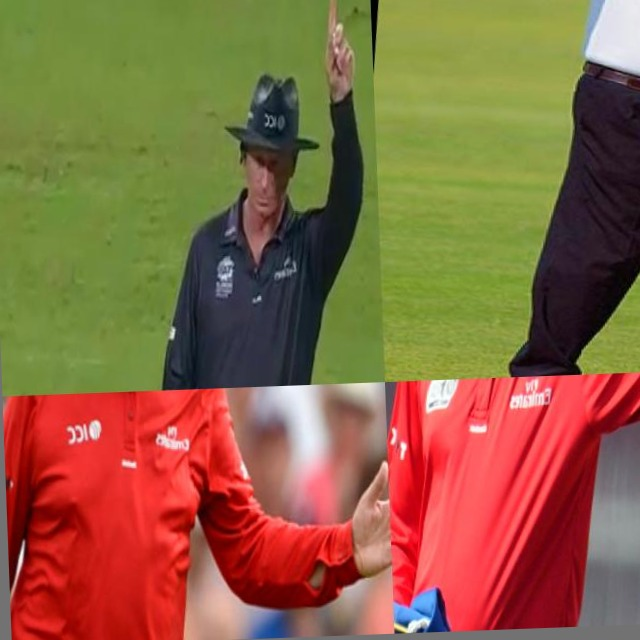No_Ball: (3, 382, 395, 640), (385, 372, 640, 634)
Out: (139, 0, 385, 391)
Six: (413, 0, 640, 380)
